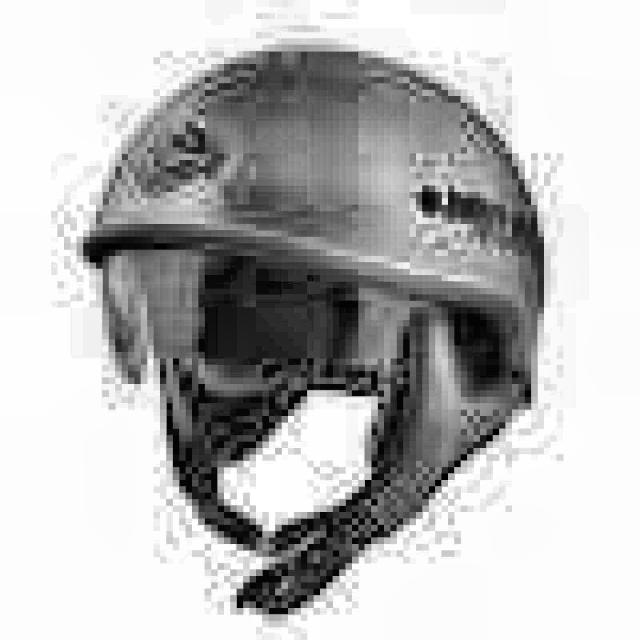Helmet: (60, 39, 565, 626)
